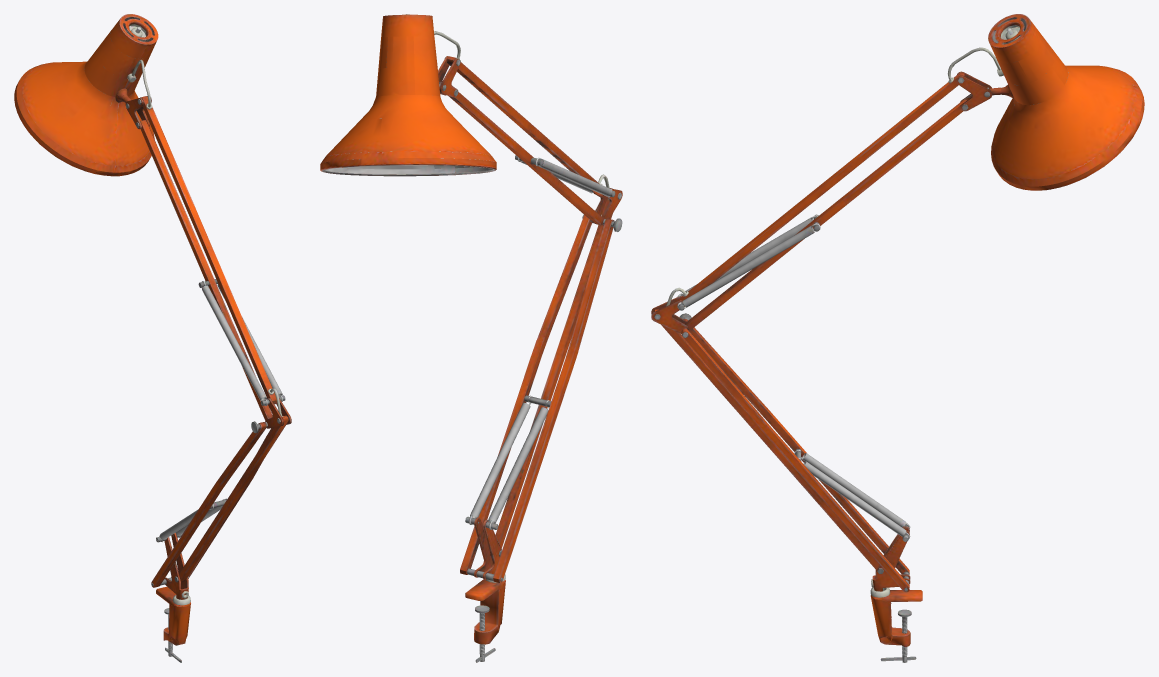
File: distance.fbx
3 views of the same model, side by side, from view 1: azimuth 30°, elevation 25°; view 2: azimuth 150°, elevation 25°; view 3: azimuth 270°, elevation 25° (orthographic). The views are drawn at different scales.
Visible parts, largest first — view 1: desk_lamp_arm_01; view 2: desk_lamp_arm_01; view 3: desk_lamp_arm_01.
Boxes of the visible parts, x1,y1,x2,y2 form: desk_lamp_arm_01: (14,14,291,662); desk_lamp_arm_01: (320,14,622,662); desk_lamp_arm_01: (651,14,1144,662).
Bounding box in the file's own units: 20.2 × 89.26 × 61.41.
